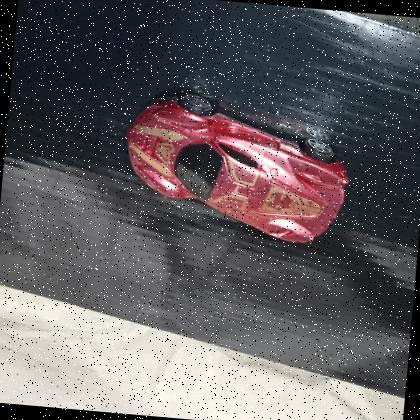Car: (111, 79, 360, 254)
